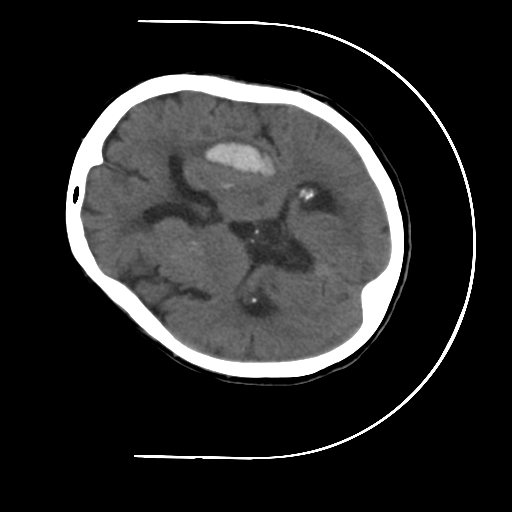a: (183, 126, 286, 185)
